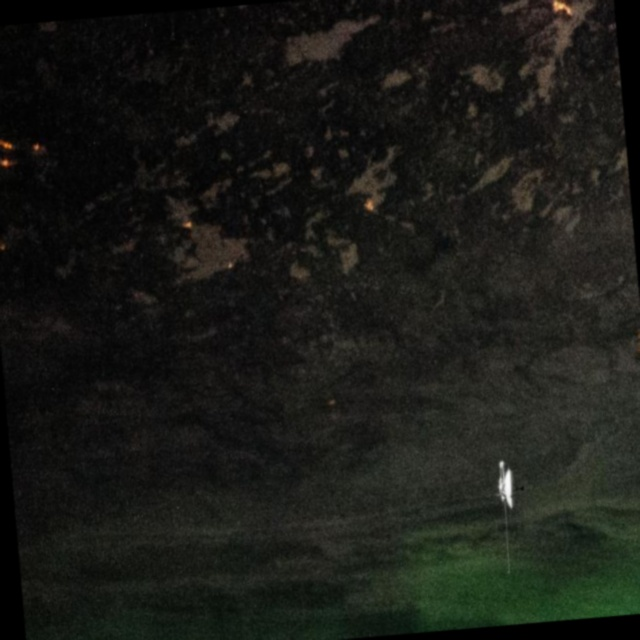satellite: (473, 450, 532, 587)
